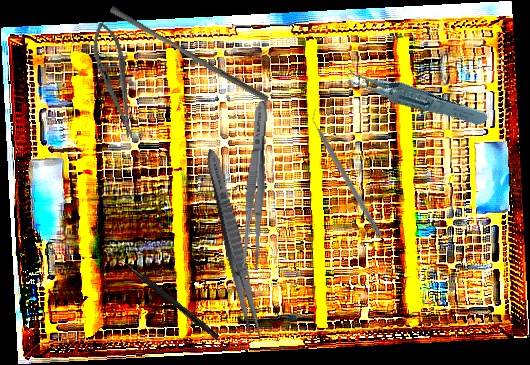Chopper: (306, 107, 389, 238)
Dressing Forceps: (200, 146, 268, 345), (239, 100, 273, 271)
Hook Surgical: (107, 249, 221, 340)
Needle Holder: (86, 19, 144, 141)
Pusher: (106, 5, 273, 103)
Tissue Forceps: (338, 35, 491, 154)
